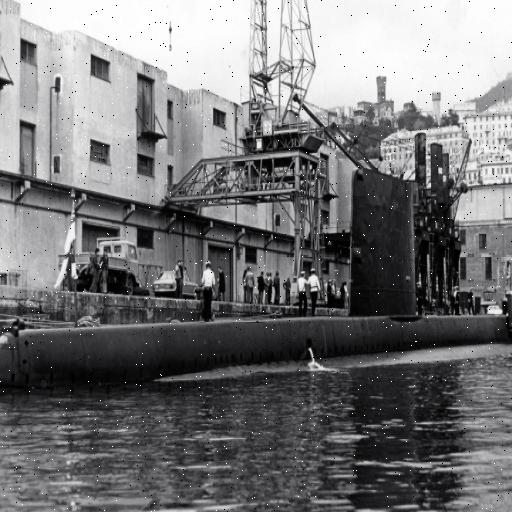submarine: (1, 163, 512, 388)
